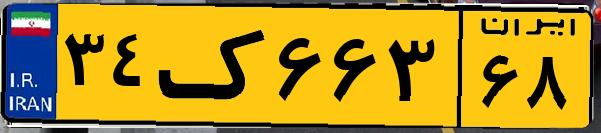3: (385, 28, 445, 110), (57, 26, 110, 100)
4: (110, 28, 158, 98)
6: (270, 28, 330, 110), (330, 28, 385, 110), (475, 38, 525, 113)
8: (525, 38, 570, 115)
ک: (158, 12, 270, 120)
